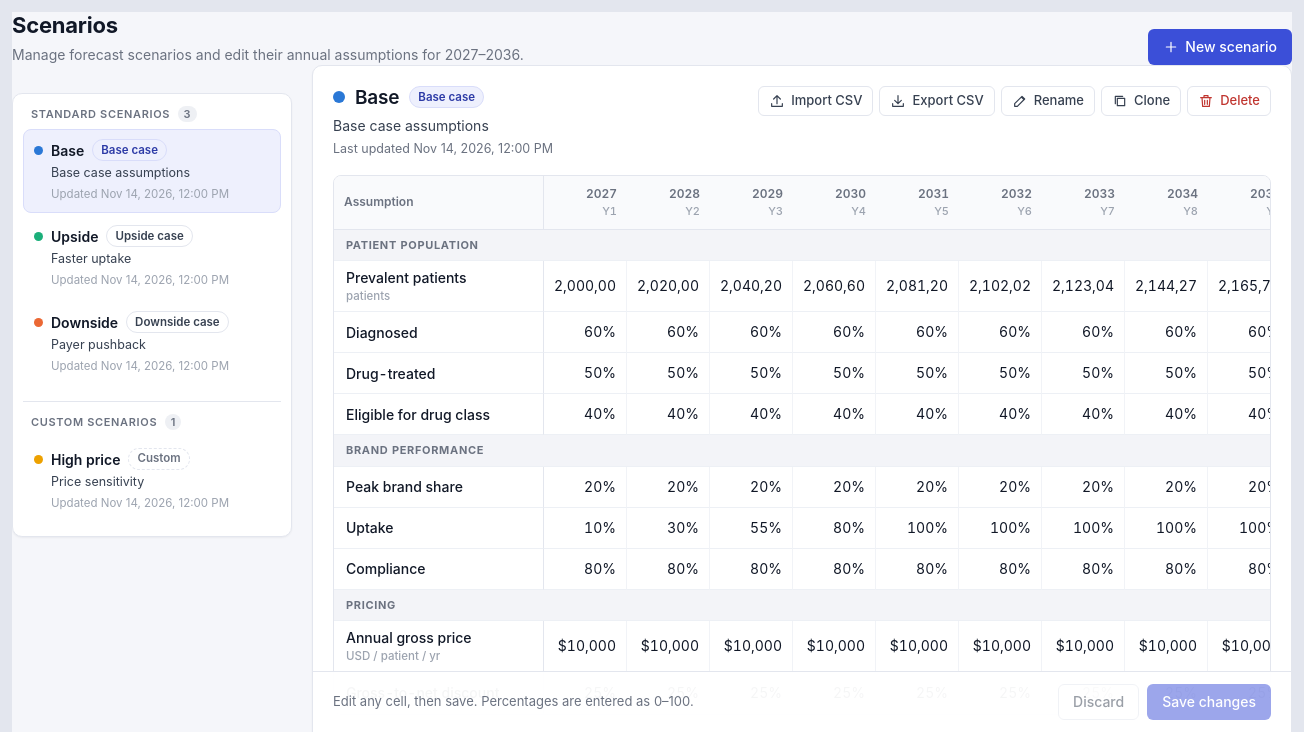
it: ScenariosPage – input grid › saves edited values exactly and sends untouched values unchanged
Expected: the table is shown, [334, 176, 1271, 714]
Replace the text in the field named "Uptake, 2027" with "12.345678" at (585, 528), box [544, 508, 626, 548]
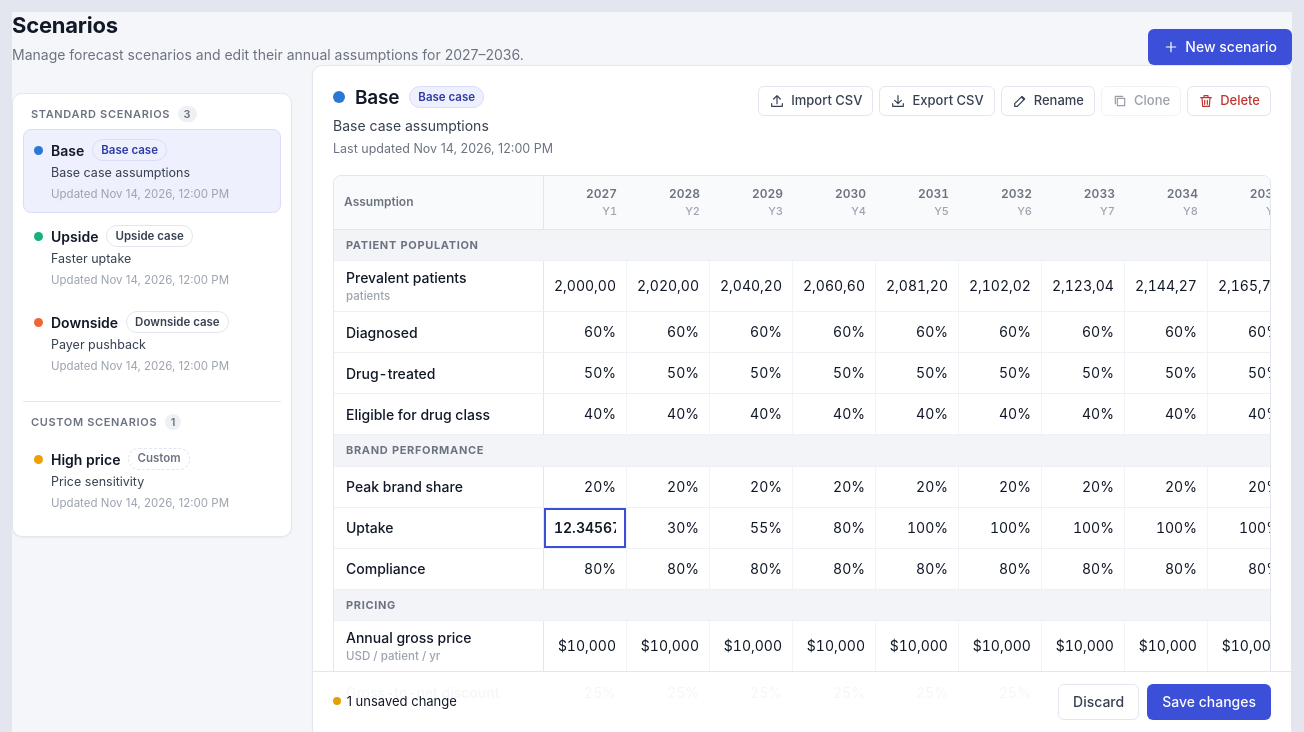
Replace the text in the field named "Annual gross price, 2030" with "10,500.25" at (834, 646), box [793, 626, 875, 666]
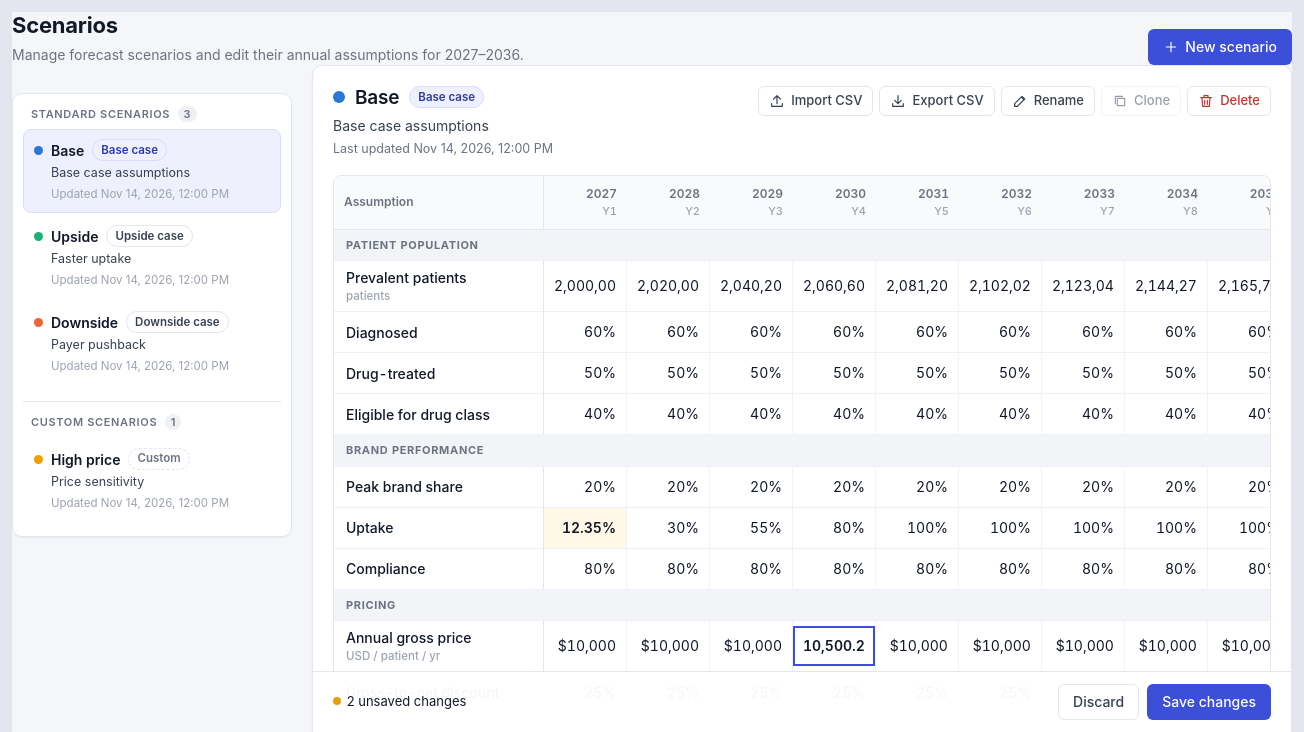
Result: the text "2 unsaved changes" is shown at [333, 692, 466, 712]
Click the button "Save changes" at (1209, 702), box [1147, 684, 1271, 720]
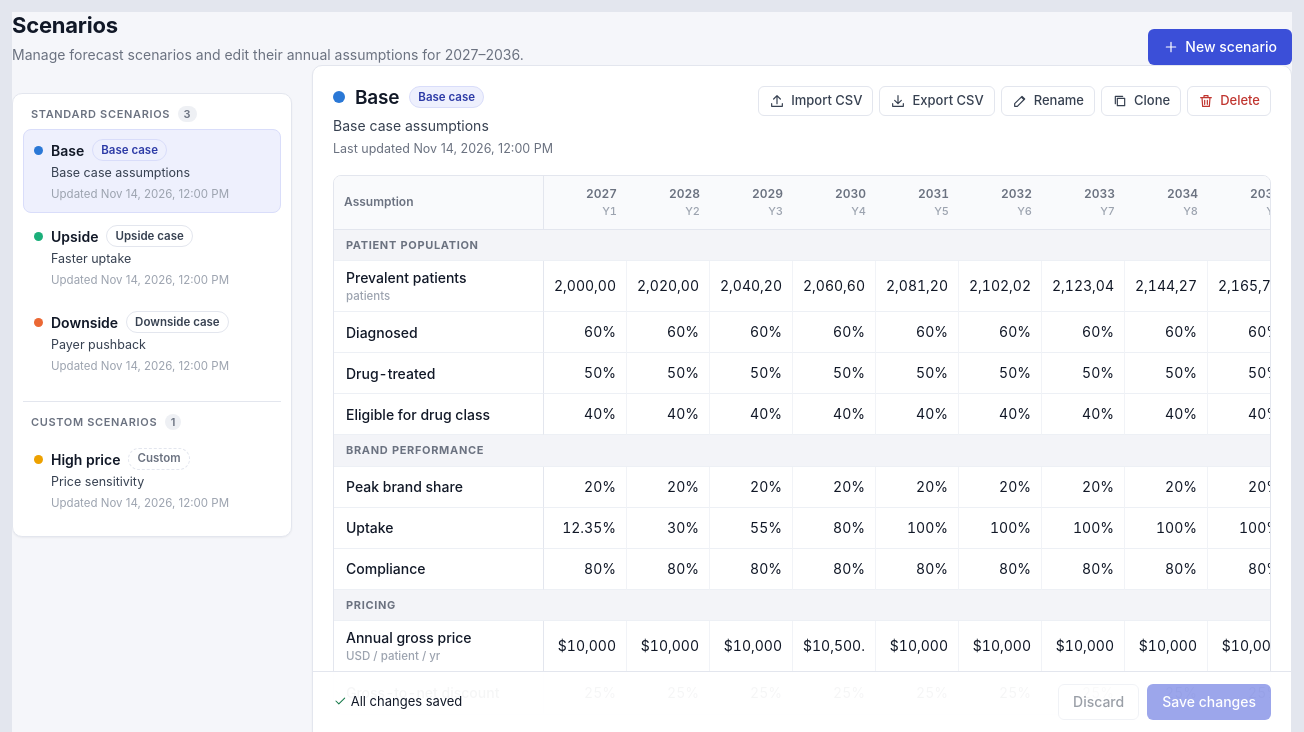
Expected: the text "Base" is shown, [51, 139, 84, 160]
Result: the text "All changes saved" is shown at [333, 692, 462, 712]
